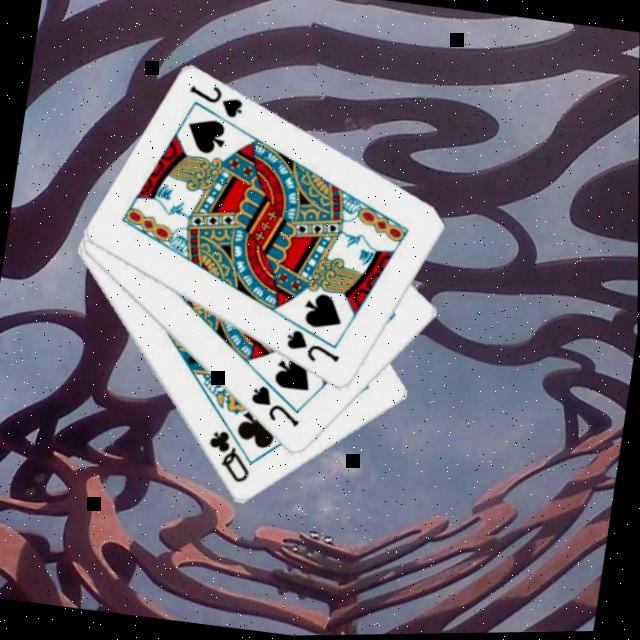JS: (244, 384, 306, 434), (182, 82, 248, 126), (280, 328, 345, 372)
QC: (200, 428, 258, 491)
